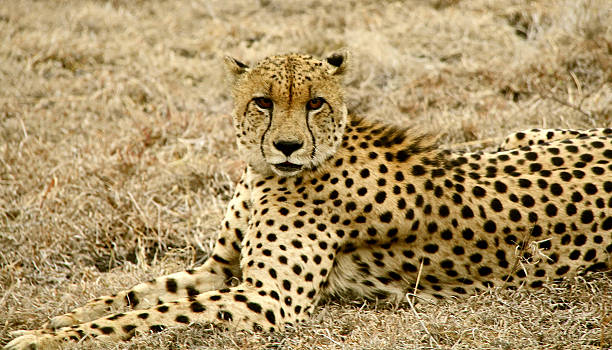cheetah: (218, 37, 364, 183)
